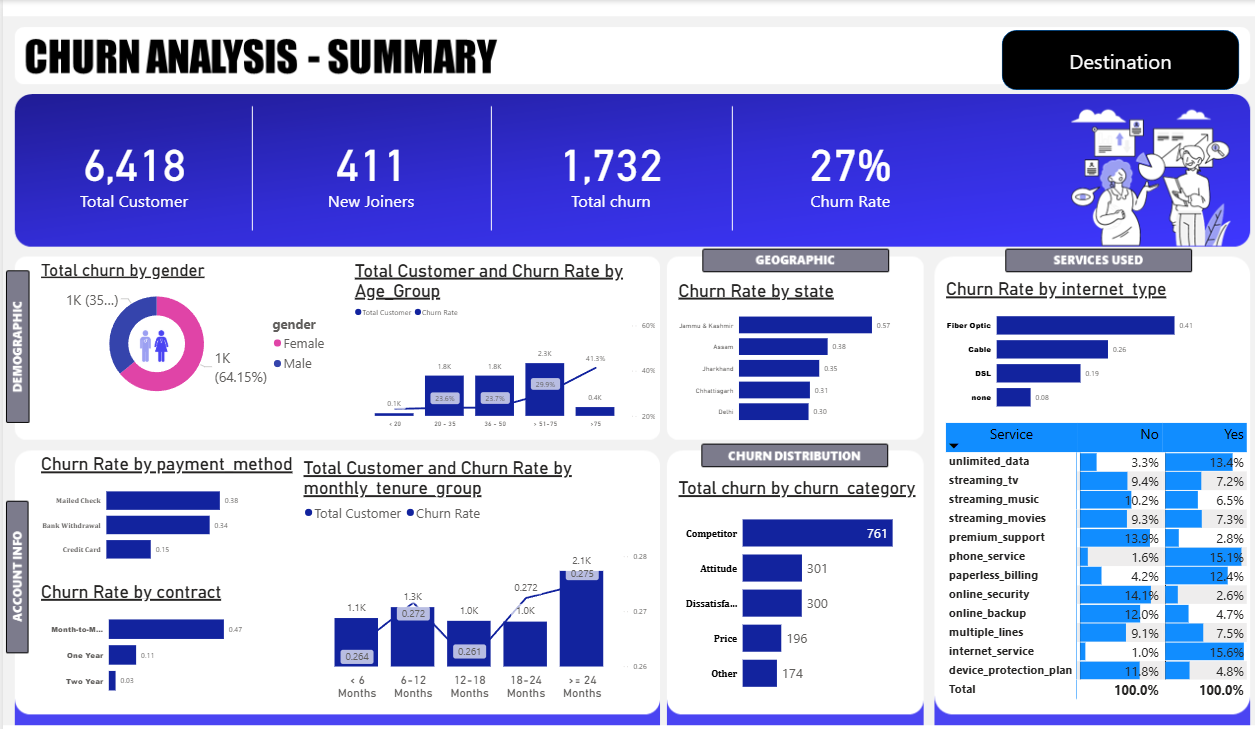

What the dashboard file says about the page in this screenshot:
{"tool":"powerbi","page":{"name":"churn_summary","canvas":[2060,1220],"ordinal":0},"visuals":[{"type":"donutChart","fields":{"Category":["telecom_churn_data prod_churn.gender"],"Y":["New_data_measure.Total churn"]},"box":[57.2,425.2,482.4,243.3],"z":0},{"type":"image","box":[196.2,531.5,102.2,67.5],"z":1000},{"type":"card","fields":{"Values":["New_data_measure.Total Customer"]},"box":[38.8,173.8,351.6,206.5],"z":2000},{"type":"card","fields":{"Values":["New_data_measure.New Joiners"]},"box":[419.1,173.8,365.9,206.5],"z":3000},{"type":"card","fields":{"Values":["New_data_measure.Total churn"]},"box":[805.4,173.8,378.2,206.5],"z":4000},{"type":"lineStackedColumnComboChart","fields":{"Category":["Age_group.Age_Group"],"Y":["New_data_measure.Total Customer"],"Y2":["New_data_measure.Churn Rate"]},"box":[570.3,425.2,500.8,282.1],"z":5000},{"type":"clusteredBarChart","fields":{"Category":["telecom_churn_data prod_churn.payment_method"],"Y":["New_data_measure.Churn Rate"]},"box":[57.2,742.1,429.3,194.2],"z":6000},{"type":"clusteredBarChart","fields":{"Y":["New_data_measure.Churn Rate"],"Category":["telecom_churn_data prod_churn.contract"]},"box":[57.2,950.6,429.3,202.4],"z":7000},{"type":"lineStackedColumnComboChart","fields":{"Y":["New_data_measure.Total Customer"],"Y2":["New_data_measure.Churn Rate"],"Category":["Tenure_in_Month_group.monthly_tenure_group"]},"box":[486.5,748.2,584.7,404.8],"z":8000},{"type":"clusteredBarChart","fields":{"Y":["New_data_measure.Churn Rate"],"Category":["telecom_churn_data prod_churn.state"]},"box":[1099.8,457.9,382.3,249.4],"z":9000},{"type":"clusteredBarChart","fields":{"Category":["telecom_churn_data prod_churn.churn_category"],"Y":["New_data_measure.Total churn"]},"box":[1099.8,780.9,402.7,372.1],"z":10000},{"type":"clusteredBarChart","fields":{"Category":["telecom_churn_data prod_churn.internet_type"],"Y":["New_data_measure.Churn Rate"]},"box":[1537.3,455.9,502.9,231],"z":11000},{"type":"pivotTable","fields":{"Rows":["Services_category.Services"],"Columns":["Services_category.Status"],"Values":["Sum(Services_category.Churn Status)"]},"box":[0,1188.9,391.4,151.9],"z":12000},{"type":"slicer","fields":{"Values":["telecom_churn_data prod_churn.Monthly_charge_status"]},"box":[881,34.5,377.6,83.9],"z":13000},{"type":"slicer","fields":{"Values":["telecom_churn_data prod_churn.married"]},"box":[1258.5,34.5,345.5,83.9],"z":14000},{"type":"pivotTable","fields":{"Values":["Sum(Services_category.Churn Status)"],"Rows":["Services_category.Service"],"Columns":["Services_category.Status"]},"box":[1537.3,686.9,502.9,466.1],"z":15000},{"type":"card","fields":{"Values":["New_data_measure.Churn Rate"]},"box":[1212.2,173.8,347.5,206.5],"z":16000},{"type":"shape","box":[1673.1,0,387.4,118.4],"z":17000}]}

Visuals, with their boxes in screenshot pixels (x1, y1, x2, y2), scaled from the page's 2060x1220 canvas onto the 1255x729 screenshot:
donutChart - telecom_churn_data prod_churn.gender x New_data_measure.Total churn: (35, 254, 329, 399)
image: (120, 318, 182, 358)
card - New_data_measure.Total Customer: (24, 104, 238, 227)
card - New_data_measure.New Joiners: (255, 104, 478, 227)
card - New_data_measure.Total churn: (491, 104, 721, 227)
lineStackedColumnComboChart - Age_group.Age_Group x New_data_measure.Total Customer: (347, 254, 653, 423)
clusteredBarChart - telecom_churn_data prod_churn.payment_method x New_data_measure.Churn Rate: (35, 443, 296, 559)
clusteredBarChart - New_data_measure.Churn Rate x telecom_churn_data prod_churn.contract: (35, 568, 296, 689)
lineStackedColumnComboChart - New_data_measure.Total Customer x New_data_measure.Churn Rate: (296, 447, 653, 689)
clusteredBarChart - New_data_measure.Churn Rate x telecom_churn_data prod_churn.state: (670, 274, 903, 423)
clusteredBarChart - telecom_churn_data prod_churn.churn_category x New_data_measure.Total churn: (670, 467, 915, 689)
clusteredBarChart - telecom_churn_data prod_churn.internet_type x New_data_measure.Churn Rate: (937, 272, 1243, 410)
pivotTable - Services_category.Services x Services_category.Status: (0, 710, 238, 728)
slicer - telecom_churn_data prod_churn.Monthly_charge_status: (537, 21, 767, 71)
slicer - telecom_churn_data prod_churn.married: (767, 21, 977, 71)
pivotTable - Sum(Services_category.Churn Status) x Services_category.Service: (937, 410, 1243, 689)
card - New_data_measure.Churn Rate: (739, 104, 950, 227)
shape: (1019, 0, 1254, 71)
